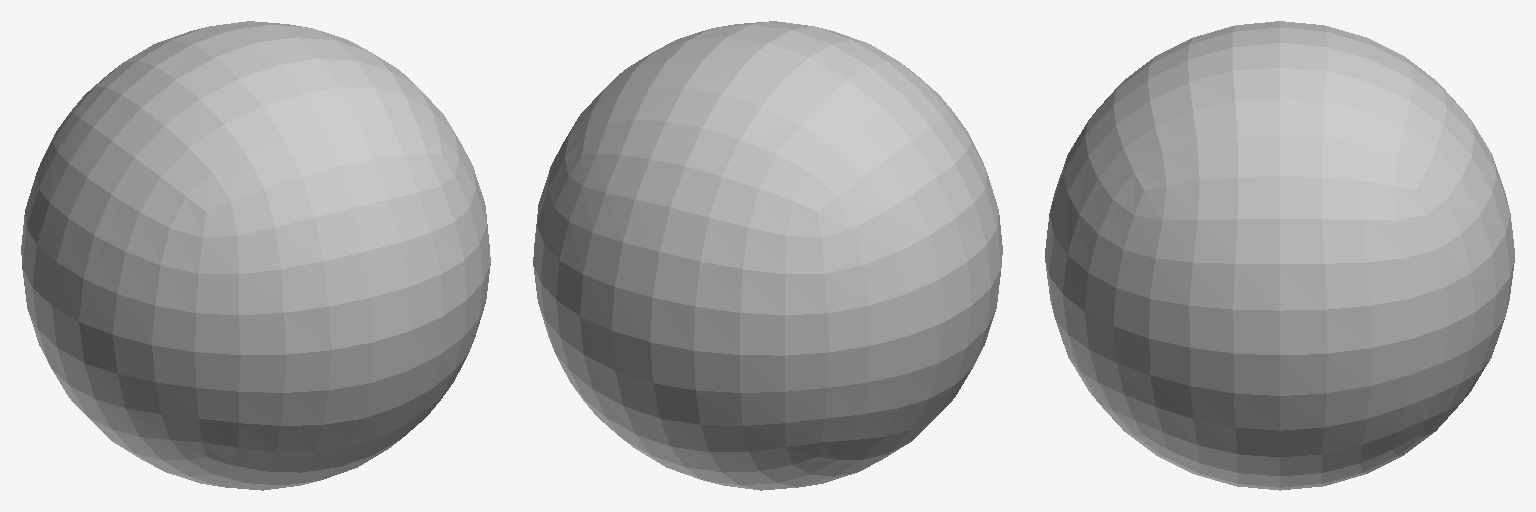
Rendered from Mercury.obj.
3 renders of one model, left to right at view 1: azimuth 30°, elevation 25°; view 2: azimuth 150°, elevation 25°; view 3: azimuth 270°, elevation 25°, orthographic.
Parts seen in each view (by area): view 1: Sphere; view 2: Sphere; view 3: Sphere.
Boxes of the visible parts, x1,y1,x2,y2 form: Sphere: [21, 21, 490, 490]; Sphere: [533, 21, 1002, 490]; Sphere: [1045, 21, 1514, 490].
Bounding box in the file's own units: 0.5 × 0.5 × 0.5.